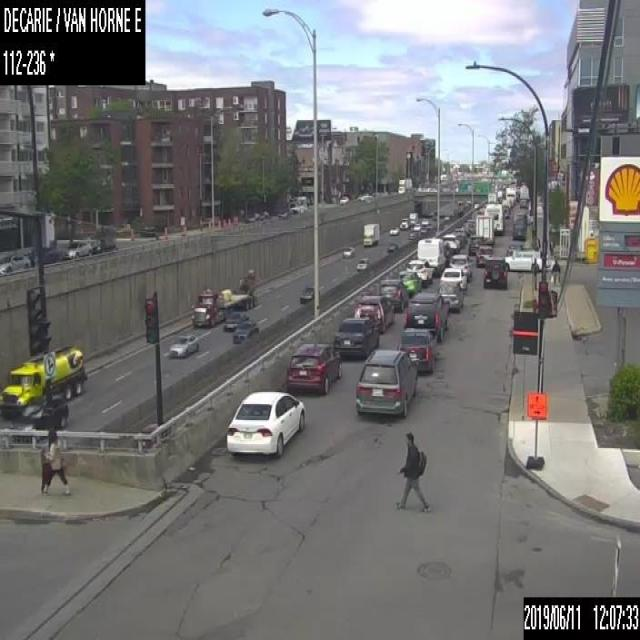construction: (525, 393, 546, 469), (130, 228, 134, 240), (164, 225, 167, 238), (217, 218, 220, 228), (232, 214, 235, 224), (234, 215, 237, 224), (227, 216, 230, 223), (222, 218, 224, 226)
pedestrian: (394, 432, 428, 511), (39, 426, 72, 494), (529, 257, 539, 292), (550, 259, 560, 285)
vehicle: (0, 343, 86, 413), (226, 391, 304, 453), (356, 347, 416, 416), (190, 268, 259, 326), (287, 342, 341, 392), (9, 393, 69, 435), (404, 290, 449, 340), (333, 316, 379, 357), (396, 327, 436, 372), (354, 294, 392, 332), (417, 237, 445, 275), (505, 249, 554, 270), (380, 279, 408, 310), (166, 331, 198, 358), (483, 256, 507, 289), (405, 258, 433, 286), (437, 280, 462, 310), (28, 244, 61, 265), (232, 318, 258, 343), (449, 253, 472, 280), (484, 202, 504, 233), (474, 214, 494, 244), (440, 267, 466, 290), (399, 268, 421, 294), (0, 253, 29, 272), (62, 239, 90, 258), (90, 231, 115, 252), (224, 310, 248, 328), (362, 221, 378, 247), (468, 233, 486, 255), (476, 244, 492, 266), (288, 195, 306, 213), (298, 285, 314, 304), (442, 233, 458, 252), (397, 177, 412, 192), (512, 223, 524, 240), (505, 186, 516, 203), (453, 228, 466, 242), (399, 217, 413, 230), (514, 212, 526, 227), (356, 257, 370, 269), (461, 221, 473, 235), (245, 211, 259, 221), (520, 183, 528, 200), (342, 246, 354, 257), (356, 193, 372, 201), (386, 243, 398, 252), (408, 212, 418, 222), (258, 210, 268, 219), (501, 204, 508, 216), (408, 230, 418, 238), (389, 226, 398, 234), (518, 198, 526, 207), (420, 217, 430, 224), (413, 222, 421, 230), (339, 195, 348, 202), (419, 225, 426, 232)
